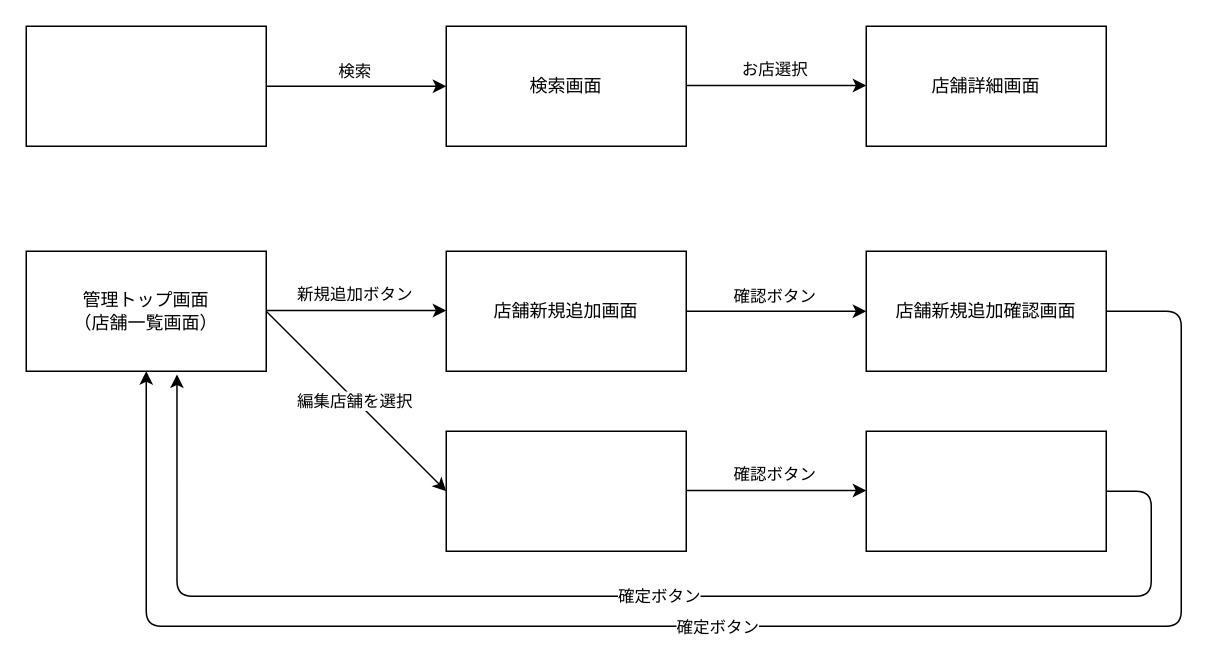
Some shapes in this 1220 by 665 pixel diagram are drawn without their labels. The box of each missing label's shape, as (x1, y1, x2, y2) in pixels:
トップ画面: (25, 25, 266, 146)
店舗編集入力画面: (445, 430, 686, 551)
店舗編集確認画面: (865, 430, 1106, 551)
